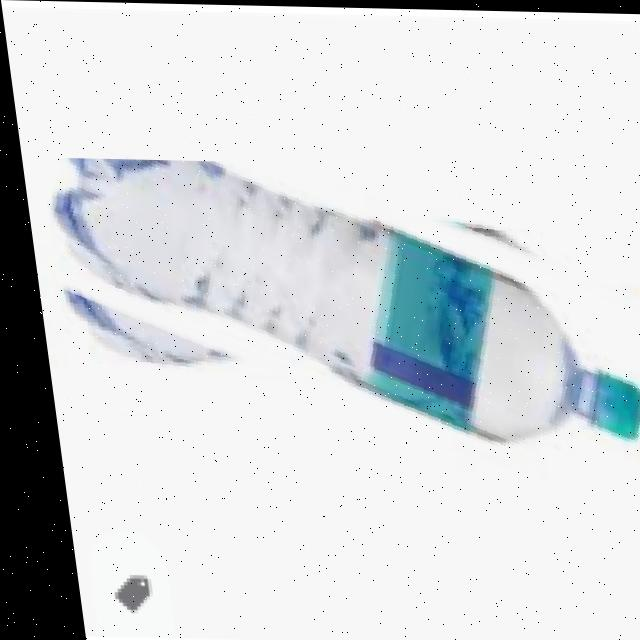plasticbottle: (36, 157, 640, 484)
